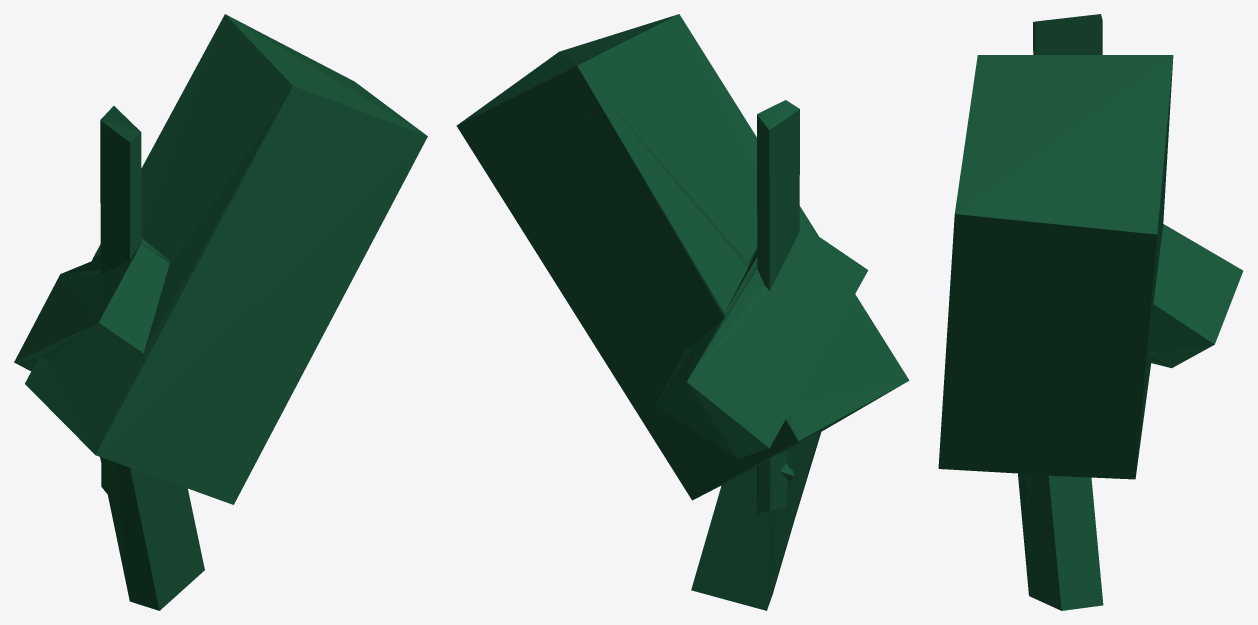
The picture shows the model from 3 angles, left to right: view 1: azimuth 30°, elevation 25°; view 2: azimuth 150°, elevation 25°; view 3: azimuth 270°, elevation 25°; orthographic projection. The views are drawn at different scales.
Parts seen in each view (by area): view 1: 389_Cube.1583; view 2: 389_Cube.1583; view 3: 389_Cube.1583.
Boxes of the visible parts, x1,y1,x2,y2 form: 389_Cube.1583: [14, 14, 427, 610]; 389_Cube.1583: [456, 14, 909, 610]; 389_Cube.1583: [938, 14, 1243, 610].
Size of the model in its own units: 11.54 by 16.56 by 7.45.
